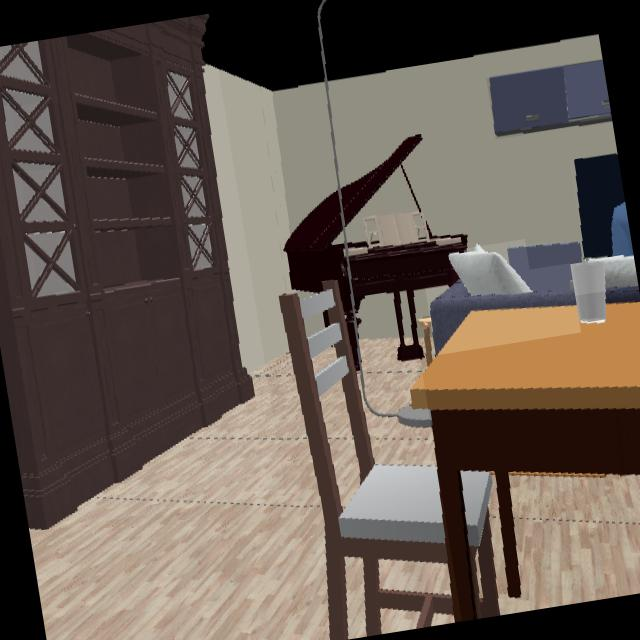bookshelf: (0, 14, 254, 531)
cabinet: (489, 60, 612, 138)
chair: (278, 282, 453, 640)
monitor: (574, 156, 626, 261)
pillow: (449, 247, 532, 296)
sofa: (430, 281, 577, 355)
table: (410, 302, 640, 623)
